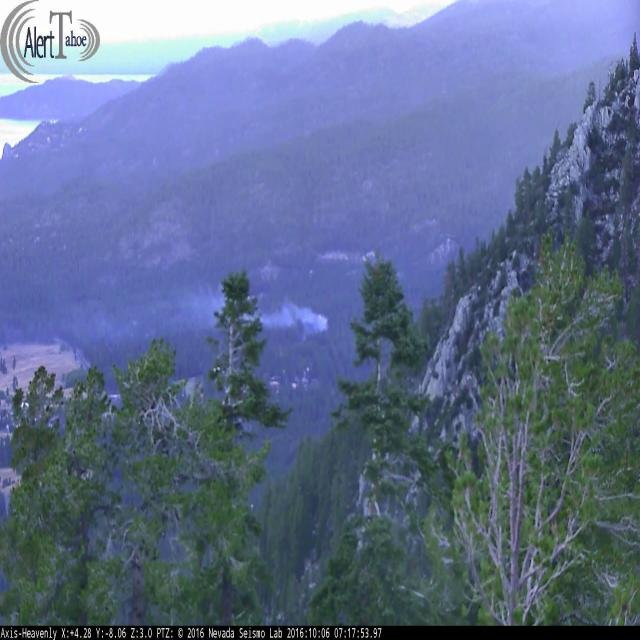smoke: (156, 292, 335, 340)
